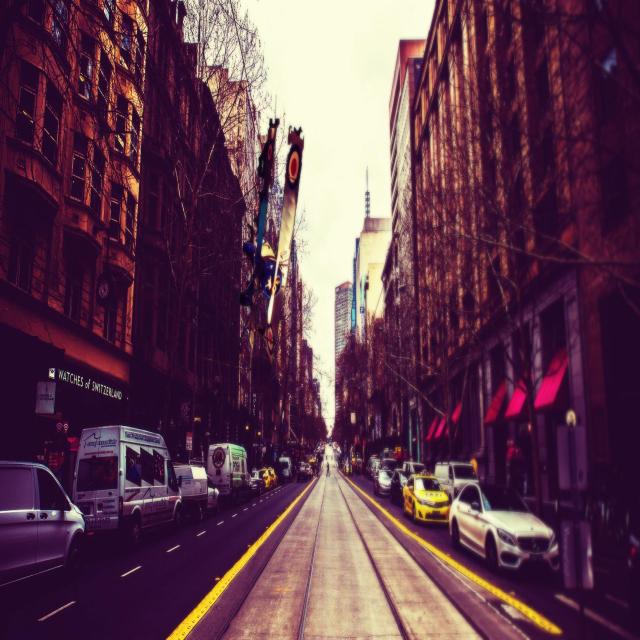airplane: (239, 116, 304, 366)
